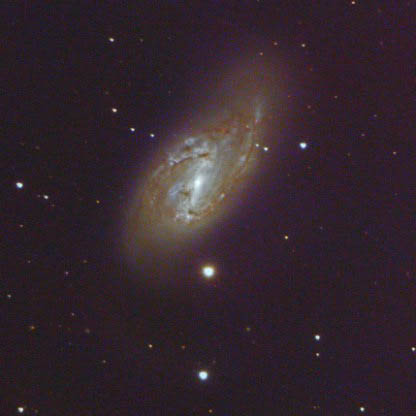Messier 66: (93, 51, 299, 292)
